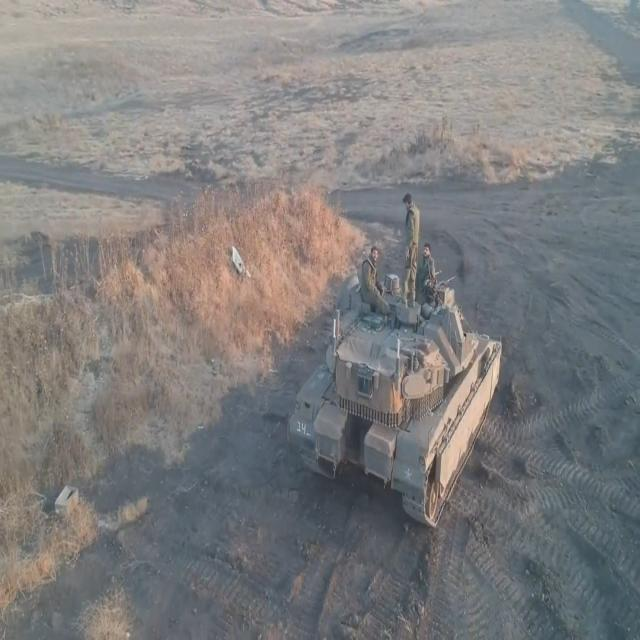tank: (273, 270, 519, 551)
